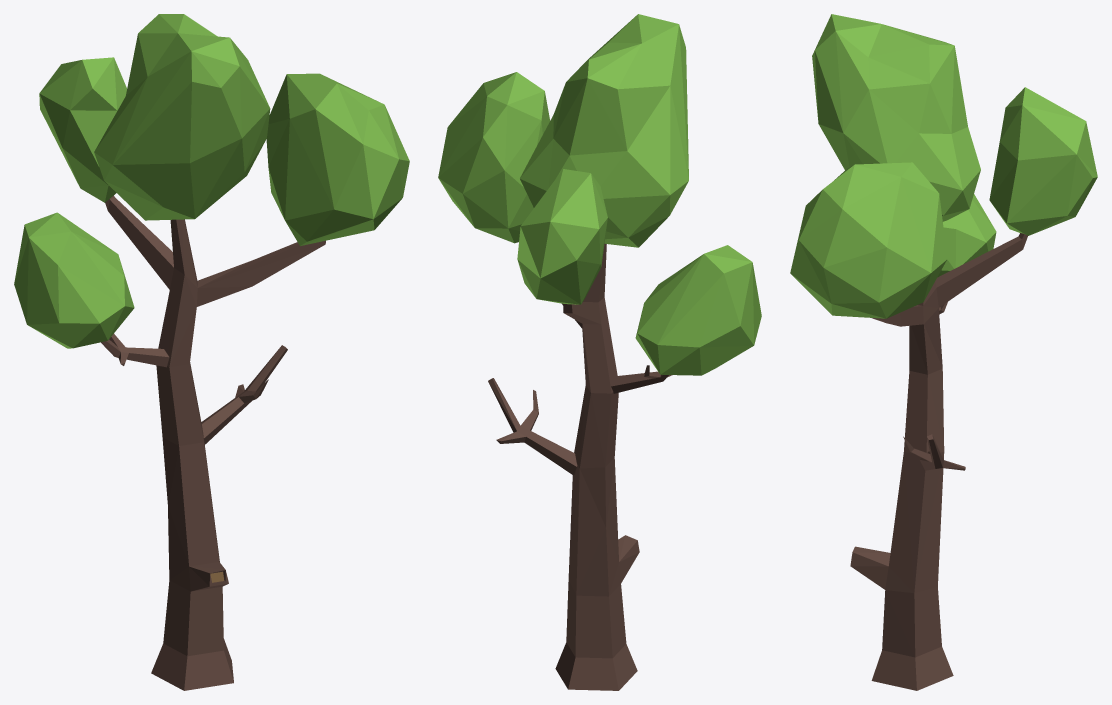
File: tree-03.glb
3 renders of one model, left to right at view 1: azimuth 30°, elevation 25°; view 2: azimuth 150°, elevation 25°; view 3: azimuth 270°, elevation 25°, orthographic. The views are drawn at different scales.
Visible parts, largest first — view 1: Tree2_1; view 2: Tree2_1; view 3: Tree2_1.
Part boxes in pixels (<box>): Tree2_1: <box>14,14,409,690</box>; Tree2_1: <box>438,14,761,690</box>; Tree2_1: <box>790,14,1097,690</box>.
Size of the model in its own units: 8.66 by 15.92 by 6.95.
